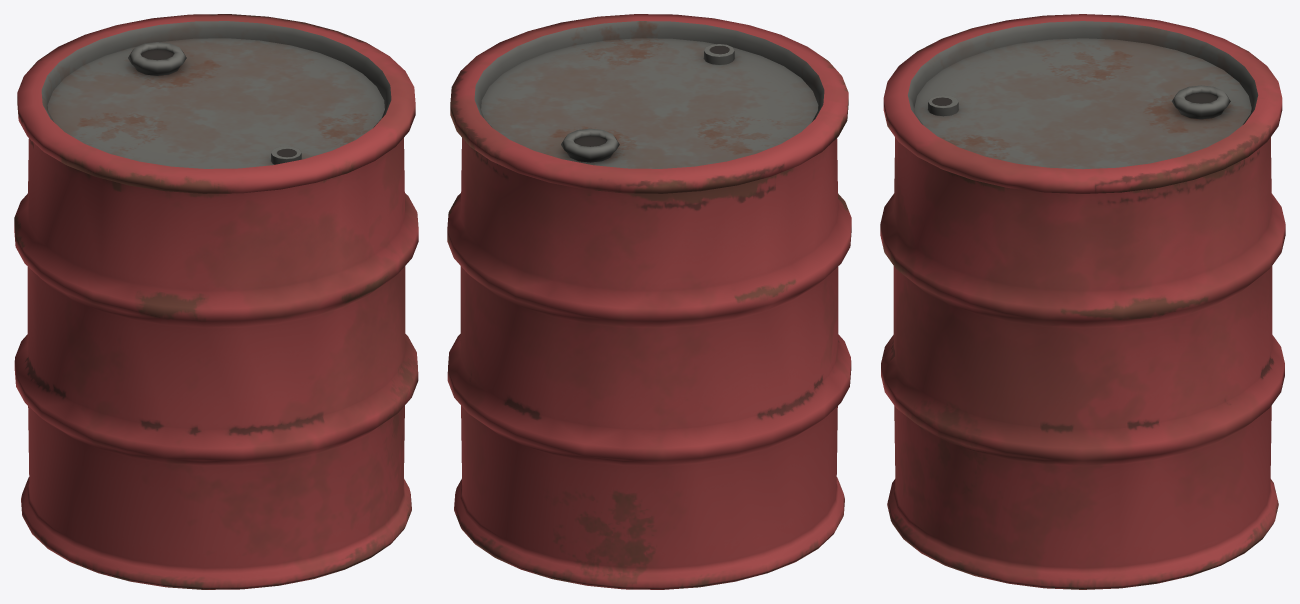
File: barrel_prop.glb
3 renders of one model, left to right at view 1: azimuth 30°, elevation 25°; view 2: azimuth 150°, elevation 25°; view 3: azimuth 270°, elevation 25°, orthographic.
Parts seen in each view (by area): view 1: Object_2; view 2: Object_2; view 3: Object_2.
Boxes of the visible parts, left/top/right/bottom form: Object_2: left=14, top=14, right=418, bottom=589; Object_2: left=447, top=14, right=851, bottom=589; Object_2: left=880, top=14, right=1285, bottom=589.
Bounding box in the file's own units: 46.7 × 52.51 × 46.7.
1 material, 1 textured.
